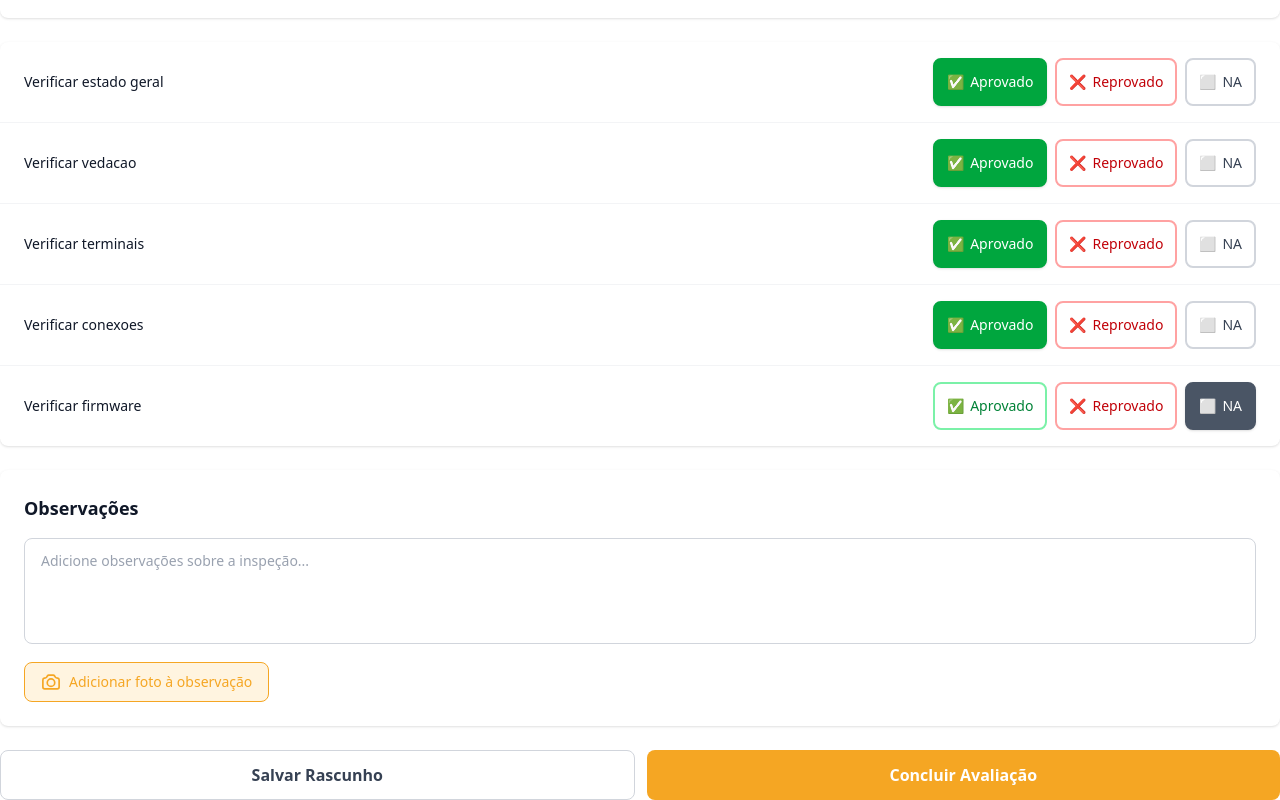
Test case: ChecklistForm - Checklist Validation (US-306) › does not show photo warning when photos >= 6
This screenshot has width=1280, height=800.
(page scrolled)
Click the button "Concluir Avaliação" at [963, 775], box 646,750 -> 1279,799
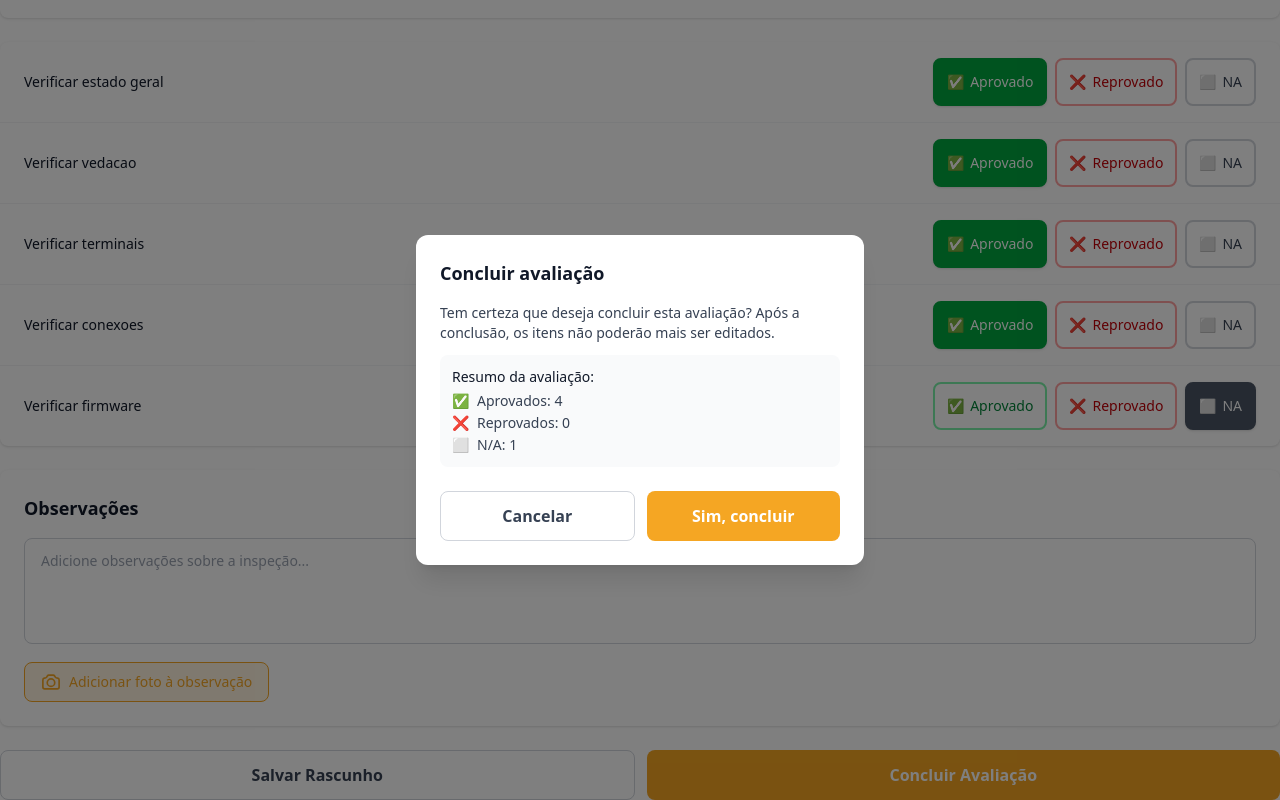
Now the element with test id "summary-counts" is shown, box 440,355 -> 840,467
